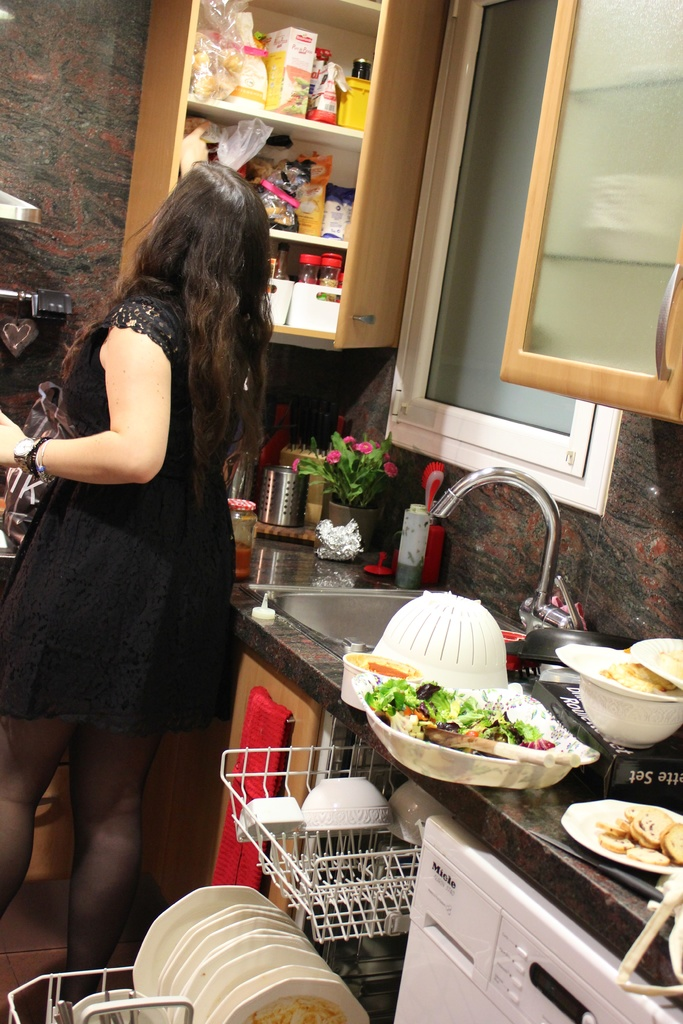salad: (360, 674, 553, 749)
